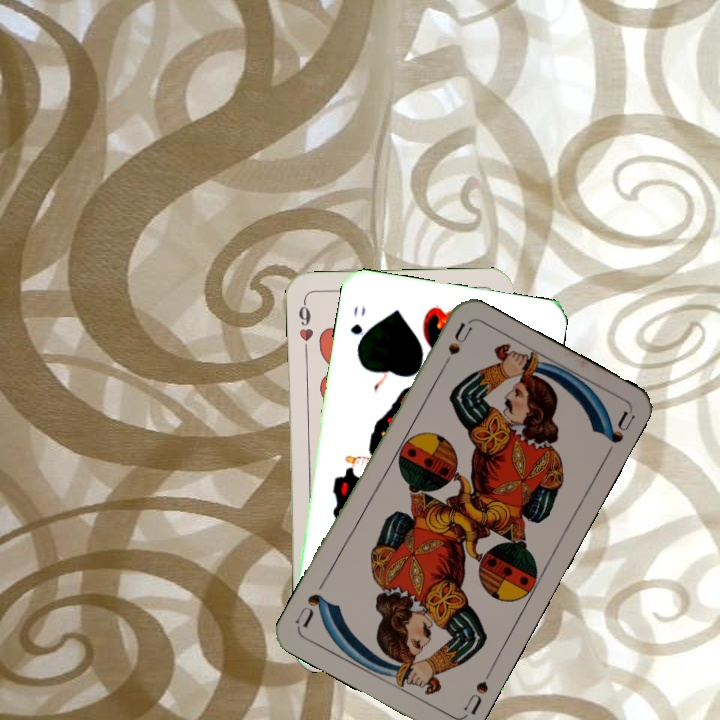GO: (346, 302, 368, 353)
H9: (294, 297, 315, 356)
SU: (435, 319, 475, 375), (460, 676, 491, 718)
